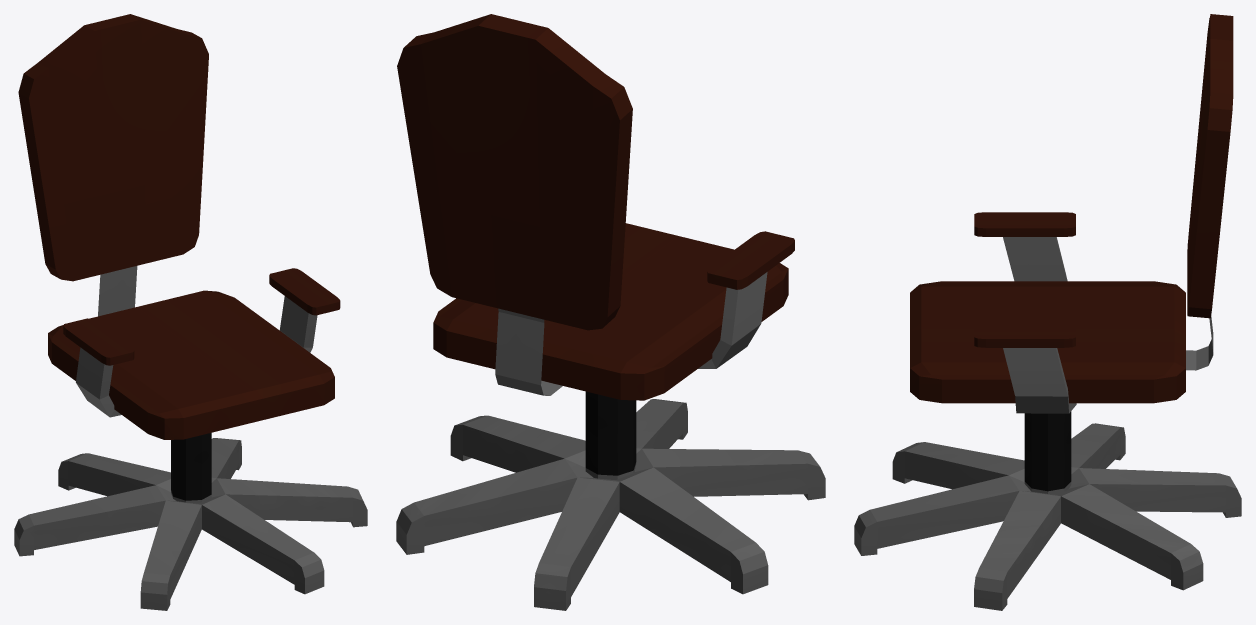
The model's file is Silla.fbx.
3 views of the same model, side by side, from view 1: azimuth 30°, elevation 25°; view 2: azimuth 150°, elevation 25°; view 3: azimuth 270°, elevation 25° (orthographic). The views are drawn at different scales.
Parts seen in each view (by area): view 1: Silla.001; view 2: Silla.001; view 3: Silla.001.
Part boxes in pixels (bbox=[...]): Silla.001: bbox=[14, 14, 367, 610]; Silla.001: bbox=[396, 14, 825, 610]; Silla.001: bbox=[854, 14, 1241, 610].
Size of the model in its own units: 2.43 by 3.54 by 2.47.
Materials: 1 (1 with a texture image).
